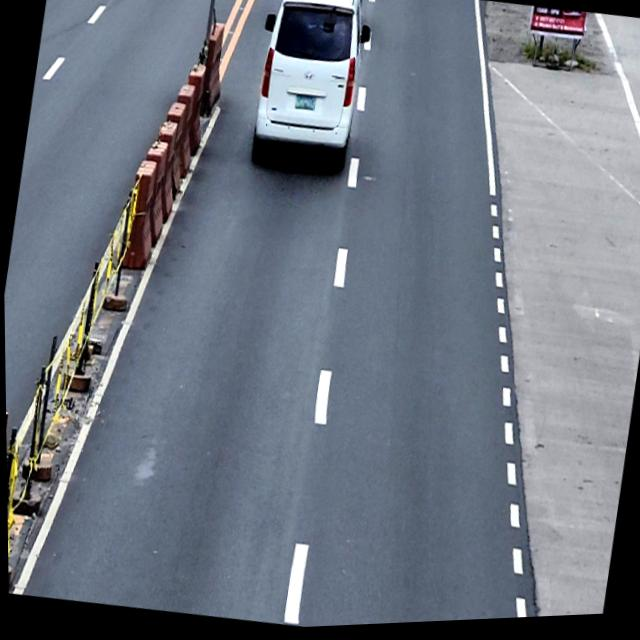Car: (242, 0, 380, 179)
License-Plate: (293, 94, 317, 115)
